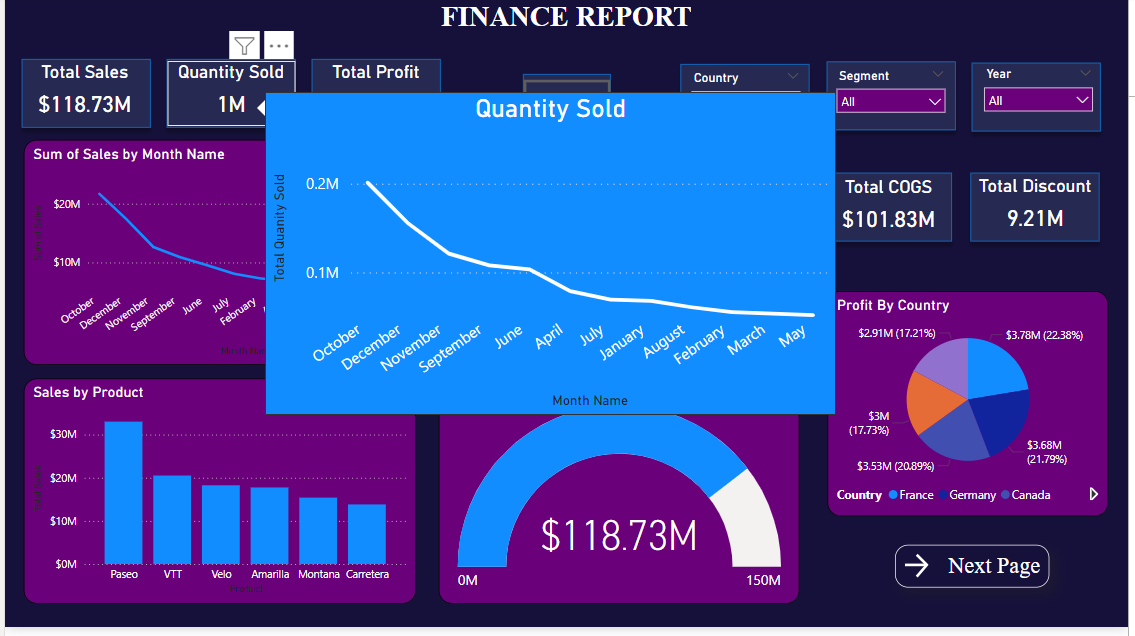

The dashboard page shown, as its layout file describes it:
{"tool":"powerbi","page":{"name":"Dashboard","canvas":[1280,720],"ordinal":0},"visuals":[{"type":"textbox","box":[487.4,0,305.2,50.7],"z":0},{"type":"shape","box":[9.7,62.7,165.3,96.5],"z":1000},{"type":"shape","box":[340.2,62.7,165.3,96.5],"z":2000},{"type":"shape","box":[174.9,62.7,165.3,96.5],"z":3000},{"type":"card","title":"Total Sales","fields":{"Values":["financials.Total Sales"]},"box":[18.1,74.8,144.8,73.6],"z":4000},{"type":"card","title":"Quantity Sold","fields":{"Values":["financials.Total Quanity Sold"]},"box":[185.8,74.8,144.8,73.6],"z":5000},{"type":"card","title":"Total Profit","fields":{"Values":["financials.Total Profit"]},"box":[351.1,74.8,144.8,73.6],"z":6000},{"type":"shape","box":[761,67.8,165.3,96.5],"z":7000},{"type":"slicer","title":"Total Sales","fields":{"Values":["financials.Country"]},"box":[773.1,79.9,144.8,73.6],"z":8000},{"type":"shape","box":[1093,67.6,165.3,96.5],"z":9000},{"type":"slicer","title":"Total Sales","fields":{"Values":["financials.Year"]},"box":[1106.8,75.8,144.8,73.6],"z":10000},{"type":"shape","box":[927.5,65.9,165.3,96.5],"z":11000},{"type":"slicer","title":"Total Sales","fields":{"Values":["financials.Segment"]},"box":[938.4,76.7,144.8,73.6],"z":12000},{"type":"shape","box":[581.5,79.9,118.2,68.8],"z":13000},{"type":"actionButton","box":[591.2,95.6,98.9,38.6],"z":14000},{"type":"lineChart","fields":{"Category":["financials.Month Name"],"Y":["Sum(financials. Sales)"]},"box":[21.4,164.3,447.1,257.1],"z":15000},{"type":"clusteredColumnChart","title":"Sales by Product","fields":{"Category":["financials.Product"],"Y":["financials.Total Sales"]},"box":[21.4,435.7,447.1,257.1],"z":16000},{"type":"lineStackedColumnComboChart","title":"Sales and  Profit by Year","fields":{"Y":["Sum(financials. Sales)"],"Category":["financials.Year"],"Y2":["Sum(financials.Profit)"]},"box":[494.3,162.9,411.4,257.1],"z":17000},{"type":"gauge","title":"Sales Goal","fields":{"Y":["Sum(financials. Sales)"],"MaxValue":["financials.Sales to be achieved"],"MinValue":["financials.minimum value"]},"box":[494.3,435.7,411.4,257.1],"z":18000},{"type":"pieChart","title":"Profit By Country","fields":{"Category":["financials.Country"],"Y":["Sum(financials.Profit)"]},"box":[935.1,307.9,320.7,256.6],"z":19000},{"type":"actionButton","box":[1014.3,625.7,175.7,48.6],"z":20000},{"type":"shape","box":[924.4,192.7,165.3,96.5],"z":21000},{"type":"card","title":"Total COGS","fields":{"Values":["Sum(financials.COGS)"]},"box":[935.2,204.8,144.8,73.6],"z":22000},{"type":"shape","box":[1091.2,192.7,165.3,96.5],"z":23000},{"type":"card","title":"Total Discount","fields":{"Values":["Sum(financials.Discounts)"]},"box":[1101.4,204.3,145.7,74.3],"z":24000}]}

Visuals, with their boxes in screenshot pixels (x1, y1, x2, y2), scaled from the page's 1280x720 canvas onto the 1135x636 screenshot:
textbox: locate(432, 0, 703, 45)
shape: locate(9, 55, 155, 141)
shape: locate(302, 55, 448, 141)
shape: locate(155, 55, 302, 141)
"Total Sales" card: locate(16, 66, 144, 131)
"Quantity Sold" card: locate(165, 66, 293, 131)
"Total Profit" card: locate(311, 66, 440, 131)
shape: locate(675, 60, 821, 145)
"Total Sales" slicer: locate(686, 71, 814, 136)
shape: locate(969, 60, 1116, 145)
"Total Sales" slicer: locate(981, 67, 1110, 132)
shape: locate(822, 58, 969, 143)
"Total Sales" slicer: locate(832, 68, 960, 133)
shape: locate(516, 71, 620, 131)
actionButton: locate(524, 84, 612, 119)
lineChart - financials.Month Name x Sum(financials. Sales): locate(19, 145, 415, 372)
"Sales by Product" clusteredColumnChart: locate(19, 385, 415, 612)
"Sales and  Profit by Year" lineStackedColumnComboChart: locate(438, 144, 803, 371)
"Sales Goal" gauge: locate(438, 385, 803, 612)
"Profit By Country" pieChart: locate(829, 272, 1114, 499)
actionButton: locate(899, 553, 1055, 596)
shape: locate(820, 170, 966, 255)
"Total COGS" card: locate(829, 181, 958, 246)
shape: locate(968, 170, 1114, 255)
"Total Discount" card: locate(977, 180, 1106, 246)
